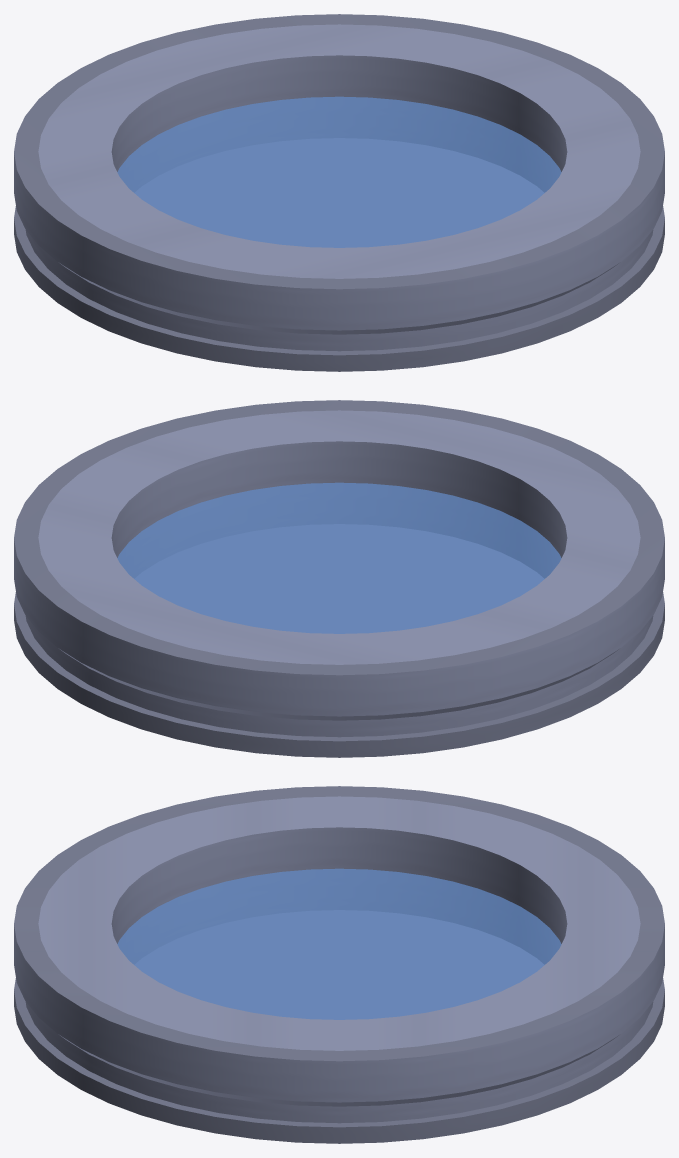
File: fountainRound.fbx
3 views of the same model, one above another, from view 1: azimuth 30°, elevation 25°; view 2: azimuth 150°, elevation 25°; view 3: azimuth 270°, elevation 25° (orthographic).
Visible parts, largest first — view 1: fountainRound; view 2: fountainRound; view 3: fountainRound.
Part boxes in pixels (bbox=[...]): fountainRound: bbox=[14, 14, 664, 371]; fountainRound: bbox=[14, 400, 664, 757]; fountainRound: bbox=[14, 786, 664, 1143].
Size of the model in its own units: 2 by 2 by 0.28.
